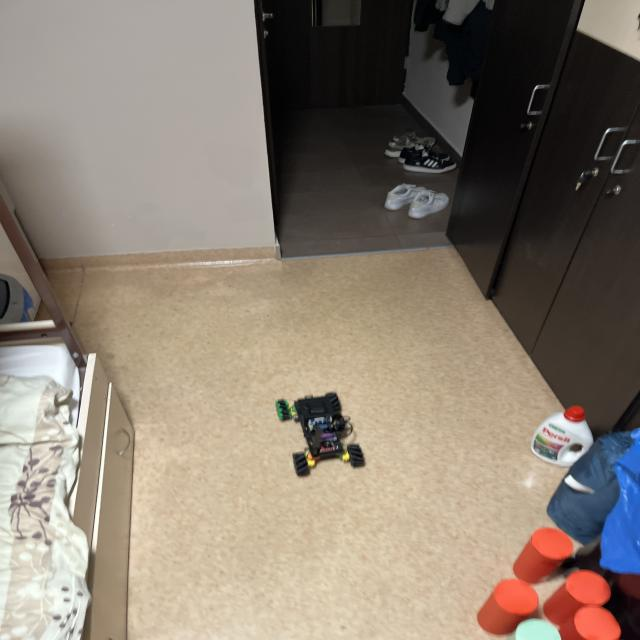robot: (276, 393, 365, 476)
